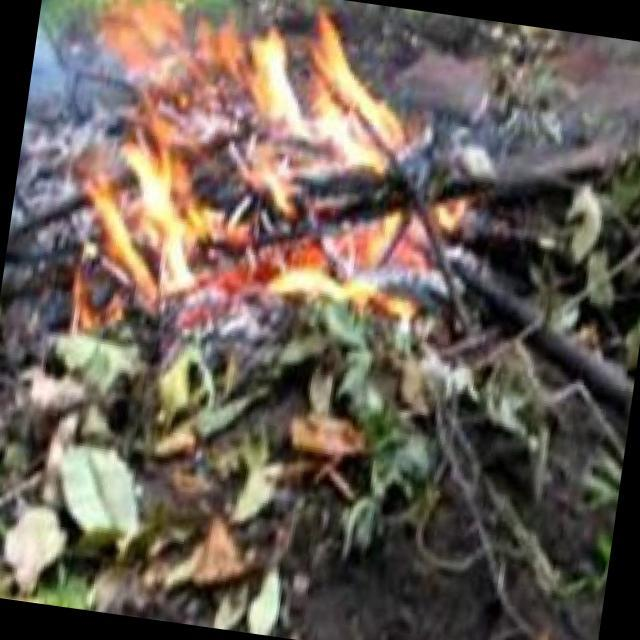Fire: (60, 1, 422, 315)
